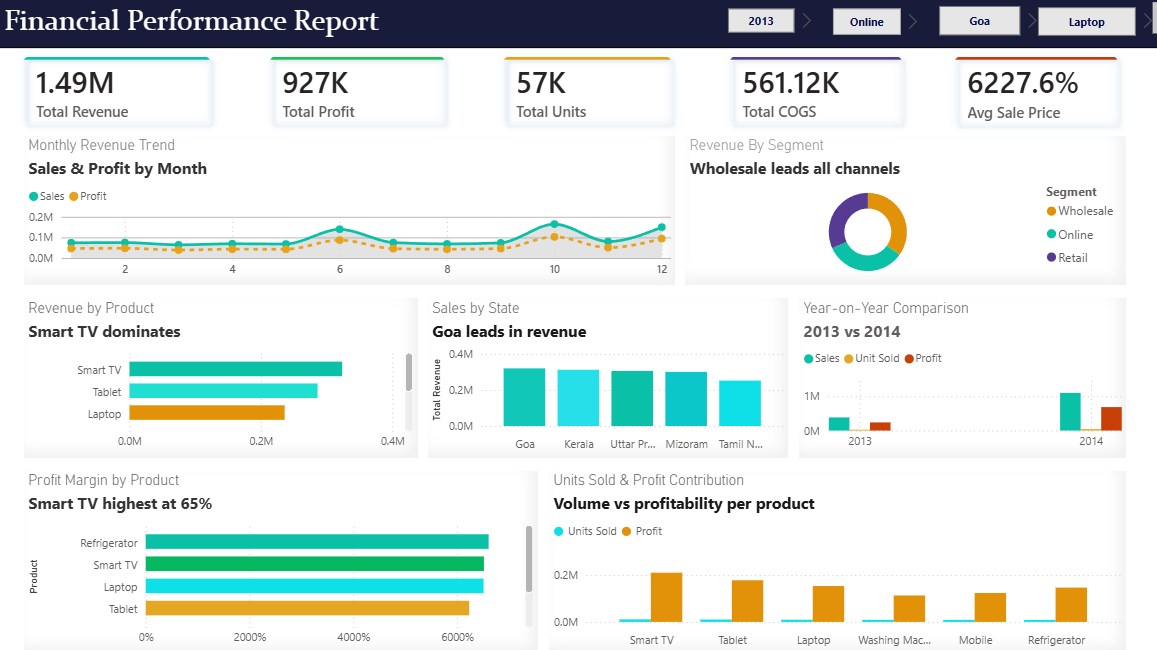

What the dashboard file says about the page in this screenshot:
{"tool":"powerbi","page":{"name":"Page 1","canvas":[1280,720],"ordinal":0},"visuals":[{"type":"textbox","box":[0,0,1280.3,56.3],"z":0},{"type":"cardVisual","fields":{"Data":["Table_1.total sales"]},"box":[-0.7,36.5,262.1,131.7],"z":1000},{"type":"cardVisual","fields":{"Data":["Table_1.Total Profit"]},"box":[268.6,36.5,249.7,131.7],"z":2000},{"type":"cardVisual","fields":{"Data":["Table_1.Total Units"]},"box":[525.6,36.5,241.5,131.7],"z":3000},{"type":"cardVisual","fields":{"Data":["Table_1.Total COGS"]},"box":[774.3,36.5,247,131.7],"z":4000},{"type":"cardVisual","fields":{"Data":["Table_1.Profit Margin %"]},"box":[1021.1,36.7,236,132.1],"z":5000},{"type":"lineChart","title":"Monthly Revenue Trend","fields":{"Category":["Table_1.Month Number"],"Y":["Table_1.Total Revenue","Table_1.Total Profit"]},"box":[26.9,152.9,715.4,163.9],"z":6000},{"type":"donutChart","title":"Revenue By Segment","fields":{"Category":["Table_1.Segment"],"Y":["Table_1.Total Revenue"]},"box":[753.3,152.9,484.2,163.9],"z":7000},{"type":"clusteredBarChart","title":"Revenue by Product","fields":{"Category":["Table_1.Product"],"Y":["Table_1.Total Revenue"]},"box":[26.9,330.2,431.7,174.9],"z":8000},{"type":"clusteredColumnChart","title":"Sales by State","fields":{"Category":["Table_1.Country"],"Y":["Table_1.Total Revenue"]},"box":[470.8,330.2,396.2,174.9],"z":9000},{"type":"clusteredColumnChart","title":"Year-on-Year Comparison","fields":{"Category":["Table_1.Year"],"Y":["Table_1.Total Revenue","Table_1.Total Units","Table_1.Total Profit"]},"box":[878,330.2,359.5,174.9],"z":10000},{"type":"clusteredBarChart","title":"Profit Margin by Product","fields":{"Category":["Table_1.Product"],"Y":["Table_1.Avg Sale Price"]},"box":[26.9,519.7,563.7,200.5],"z":11000},{"type":"clusteredColumnChart","title":"Units Sold & Profit Contribution","fields":{"Category":["Table_1.Product"],"Y":["Table_1.Total Units","Table_1.Total Profit"]},"box":[604.1,519.7,633.4,200.5],"z":12000},{"type":"slicer","fields":{"Values":["Table_1.Year"]},"box":[742.4,8.2,123.5,41.2],"z":13000},{"type":"slicer","fields":{"Values":["Table_1.Segment"]},"box":[857.6,6.9,124.9,42.5],"z":14000},{"type":"slicer","fields":{"Values":["Table_1.Country"]},"box":[982.5,5.5,129,43.9],"z":15000},{"type":"slicer","fields":{"Values":["Table_1.Product"]},"box":[1111.5,6.9,145.5,42.5],"z":16000}]}

Visuals, with their boxes in screenshot pixels (x1, y1, x2, y2), scaled from the page's 1280x720 canvas onto the 1157x650 screenshot:
textbox: 0 0 1156 51
cardVisual - Table_1.total sales: 0 33 236 152
cardVisual - Table_1.Total Profit: 243 33 468 152
cardVisual - Table_1.Total Units: 475 33 693 152
cardVisual - Table_1.Total COGS: 700 33 923 152
cardVisual - Table_1.Profit Margin %: 923 33 1136 152
"Monthly Revenue Trend" lineChart: 24 138 671 286
"Revenue By Segment" donutChart: 681 138 1119 286
"Revenue by Product" clusteredBarChart: 24 298 415 456
"Sales by State" clusteredColumnChart: 426 298 784 456
"Year-on-Year Comparison" clusteredColumnChart: 794 298 1119 456
"Profit Margin by Product" clusteredBarChart: 24 469 534 649
"Units Sold & Profit Contribution" clusteredColumnChart: 546 469 1119 649
slicer - Table_1.Year: 671 7 783 45
slicer - Table_1.Segment: 775 6 888 45
slicer - Table_1.Country: 888 5 1005 45
slicer - Table_1.Product: 1005 6 1136 45
